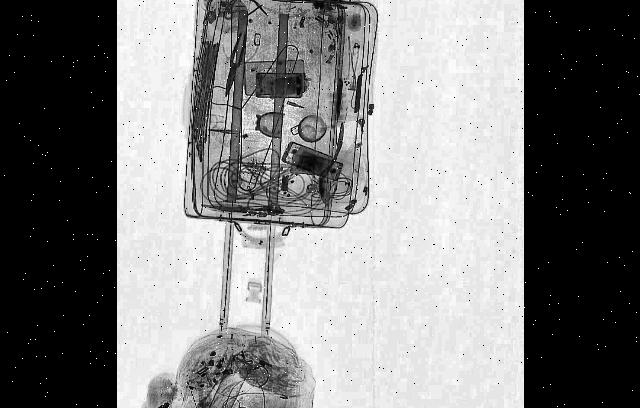Pliers: (222, 28, 248, 100)
